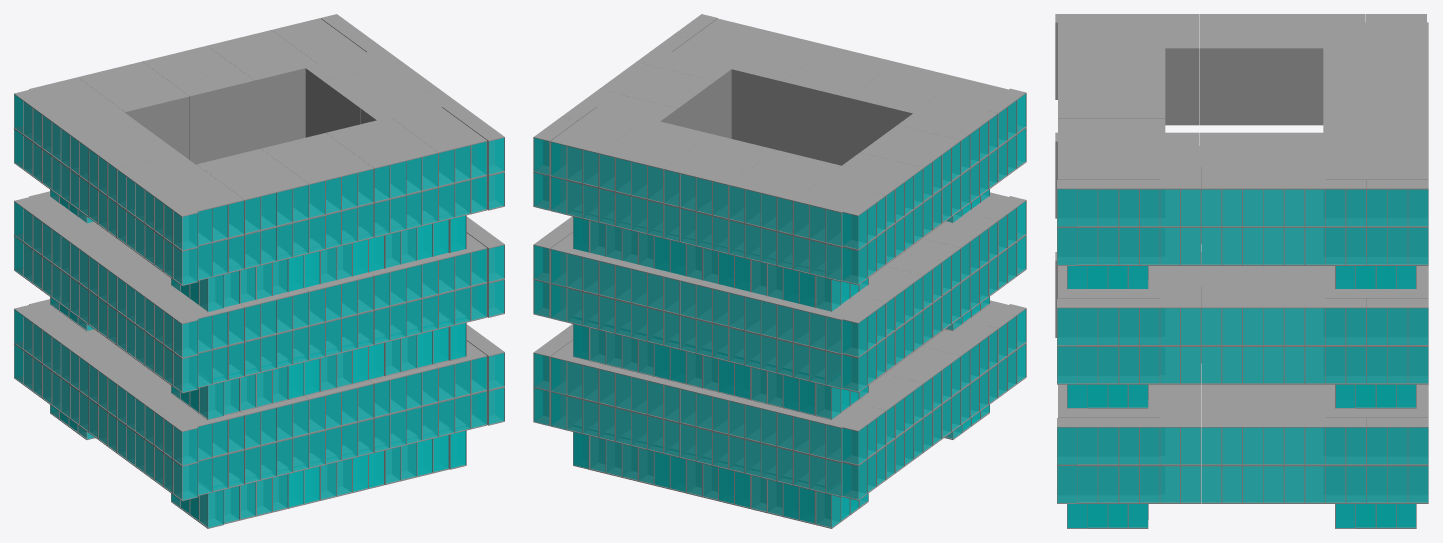
The model's file is Building 1.fbx.
3 views of the same model, side by side, from view 1: azimuth 30°, elevation 25°; view 2: azimuth 150°, elevation 25°; view 3: azimuth 270°, elevation 25° (orthographic). The views are drawn at different scales.
Parts seen in each view (by area): view 1: group11; view 2: group11; view 3: group11.
Part boxes in pixels (left/top/right/bottom): group11: left=14, top=14, right=504, bottom=528; group11: left=533, top=14, right=1026, bottom=528; group11: left=1055, top=14, right=1428, bottom=528.
Bounding box in the file's own units: 19.96 × 19.09 × 18.03.
